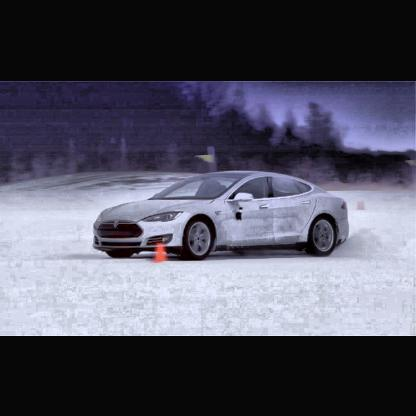Tesla Model S Sedan 2012: (93, 168, 353, 261)
